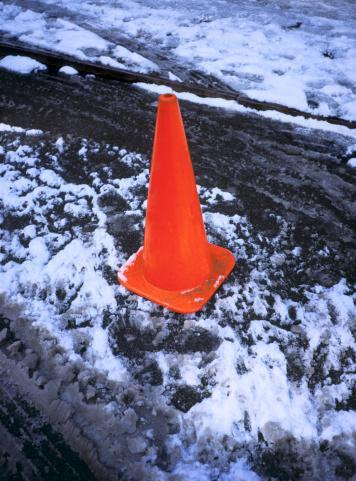Cone: (116, 93, 241, 314)
